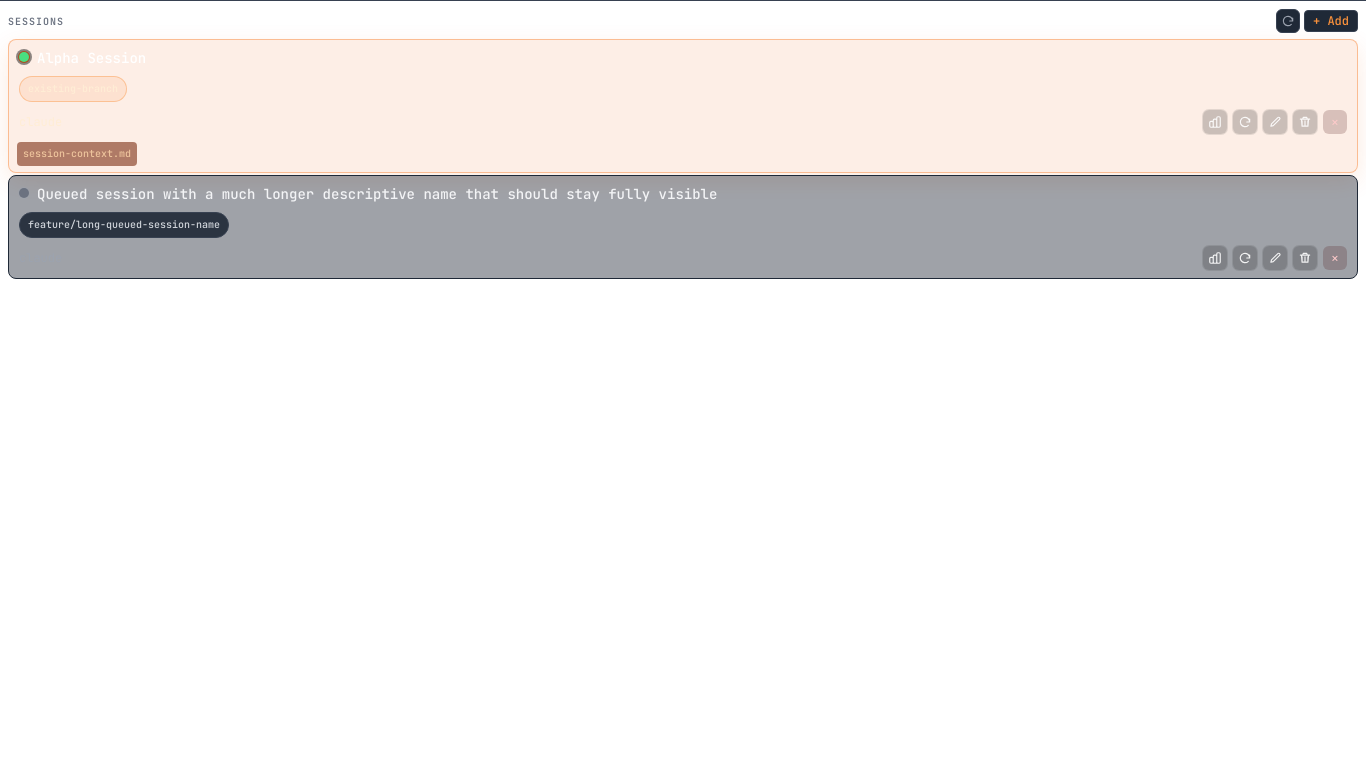
Test: SessionList › creates a new git session on a new branch
Click the button "+ Add". click: click(1331, 21)
box: [1304, 10, 1358, 32]
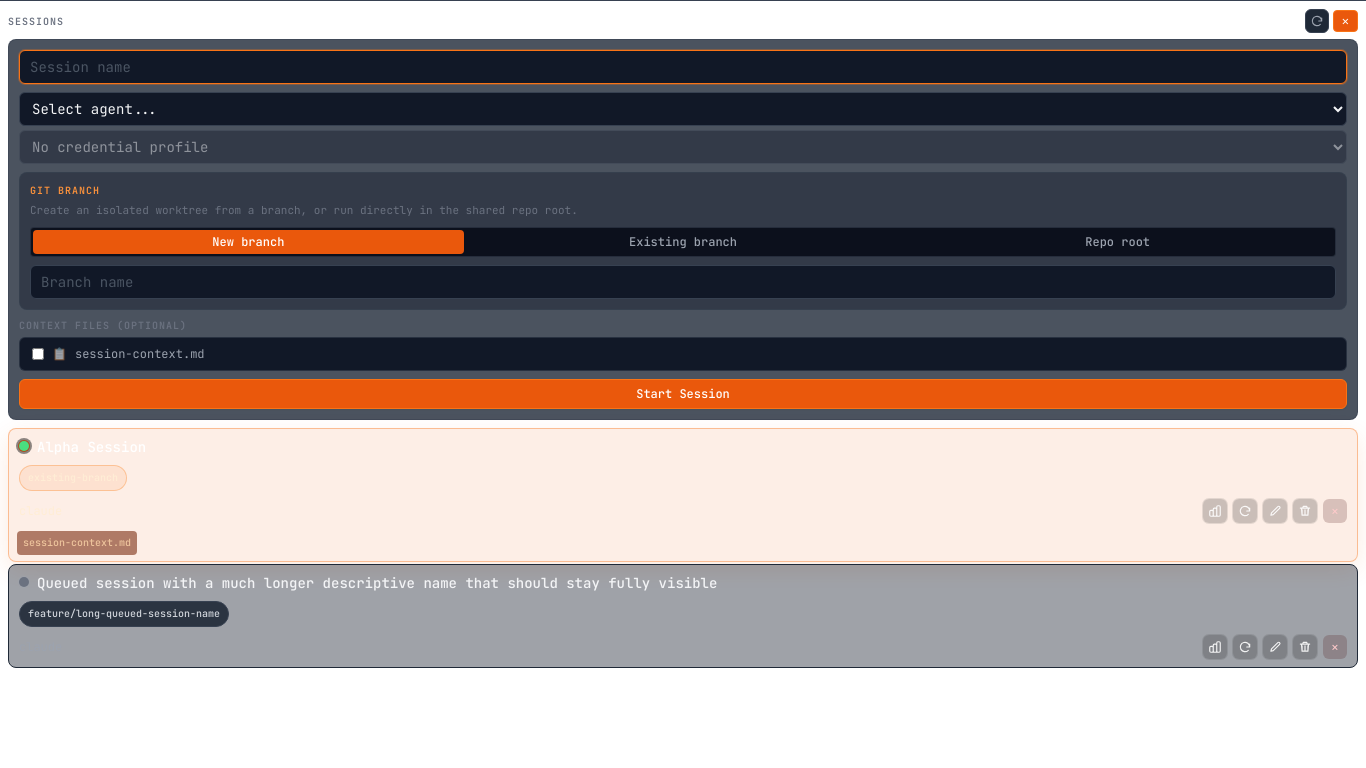
Type "Feature Session" into the field with placeholder "Session name". click: (683, 67)
box: [19, 50, 1347, 84]
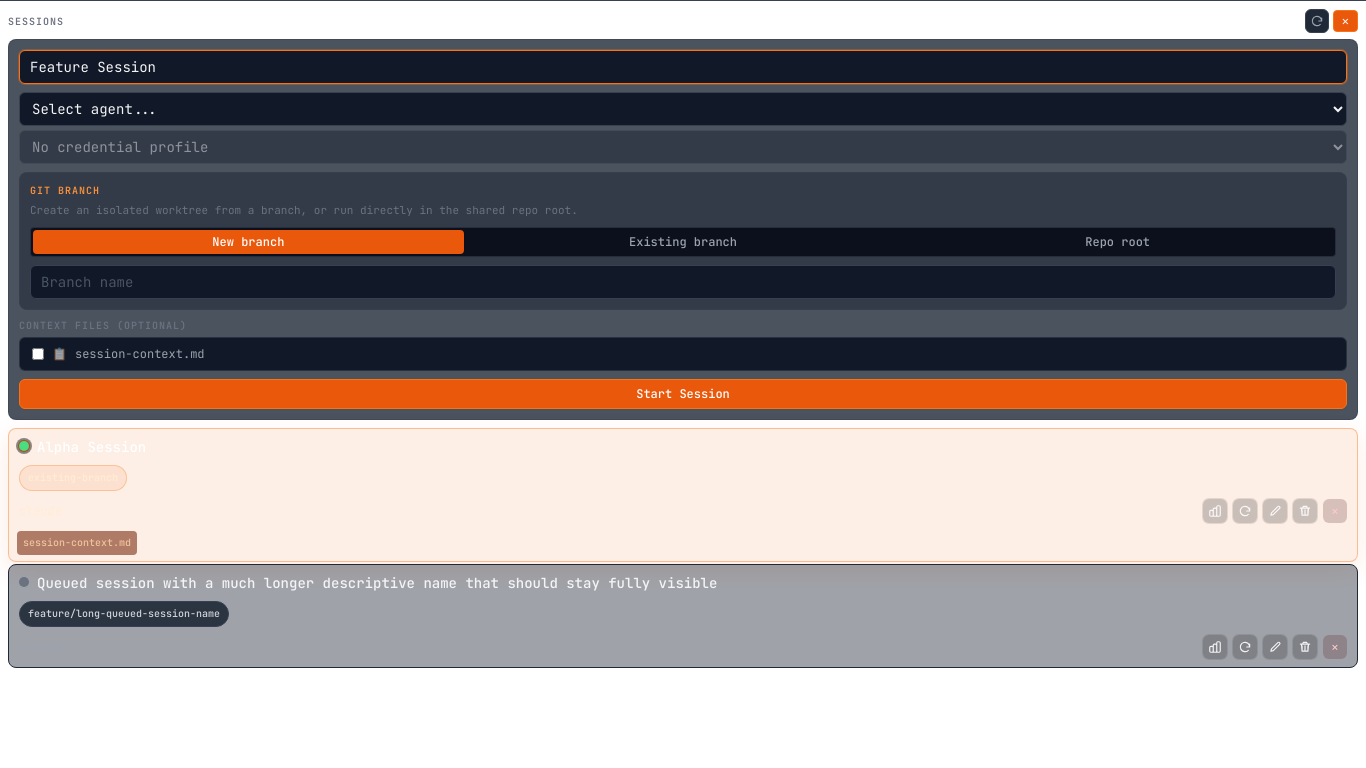
Select "Claude" in the 1st dropdown. click: (683, 109)
box: [19, 92, 1347, 126]
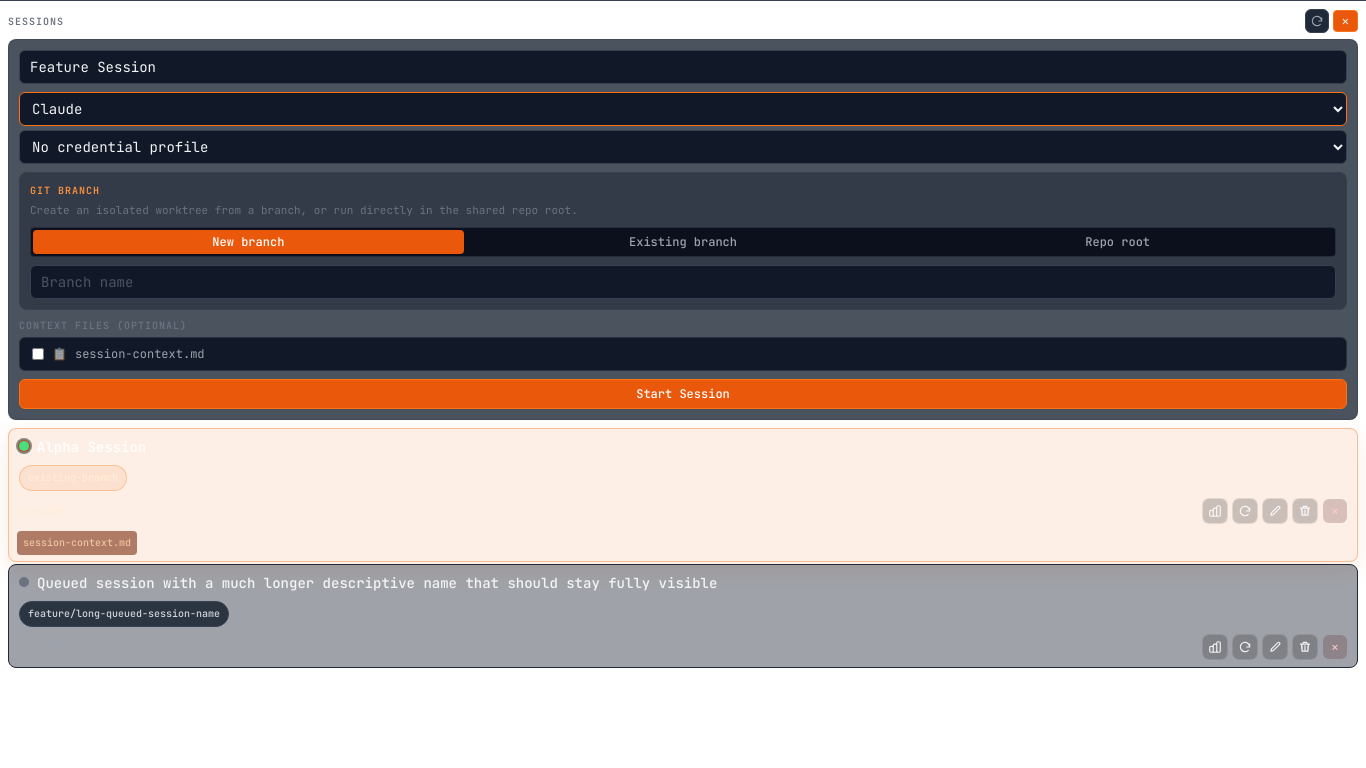
Type "feature/new-session" into the field with placeholder "Branch name". click: (683, 282)
box: [30, 264, 1336, 298]
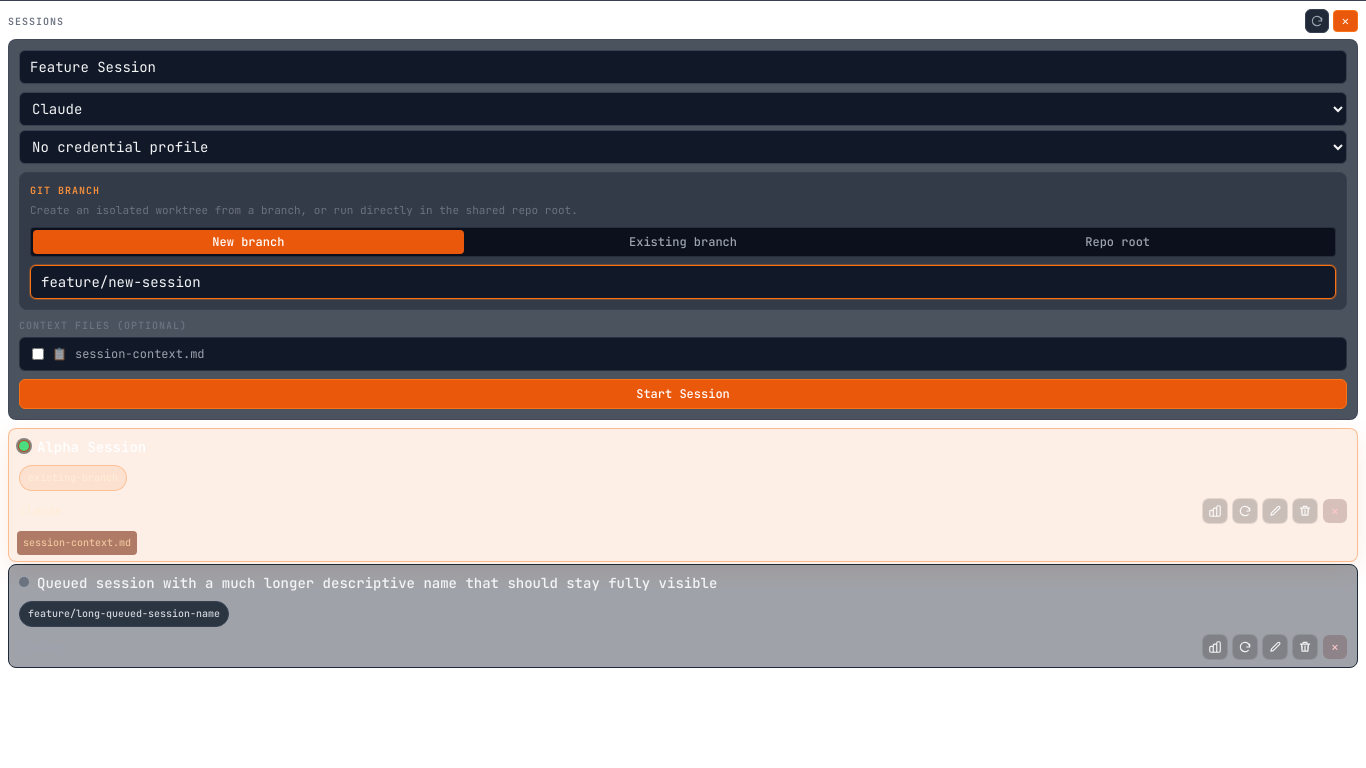
Click the button "Start Session". click: click(683, 394)
box: [19, 378, 1347, 408]
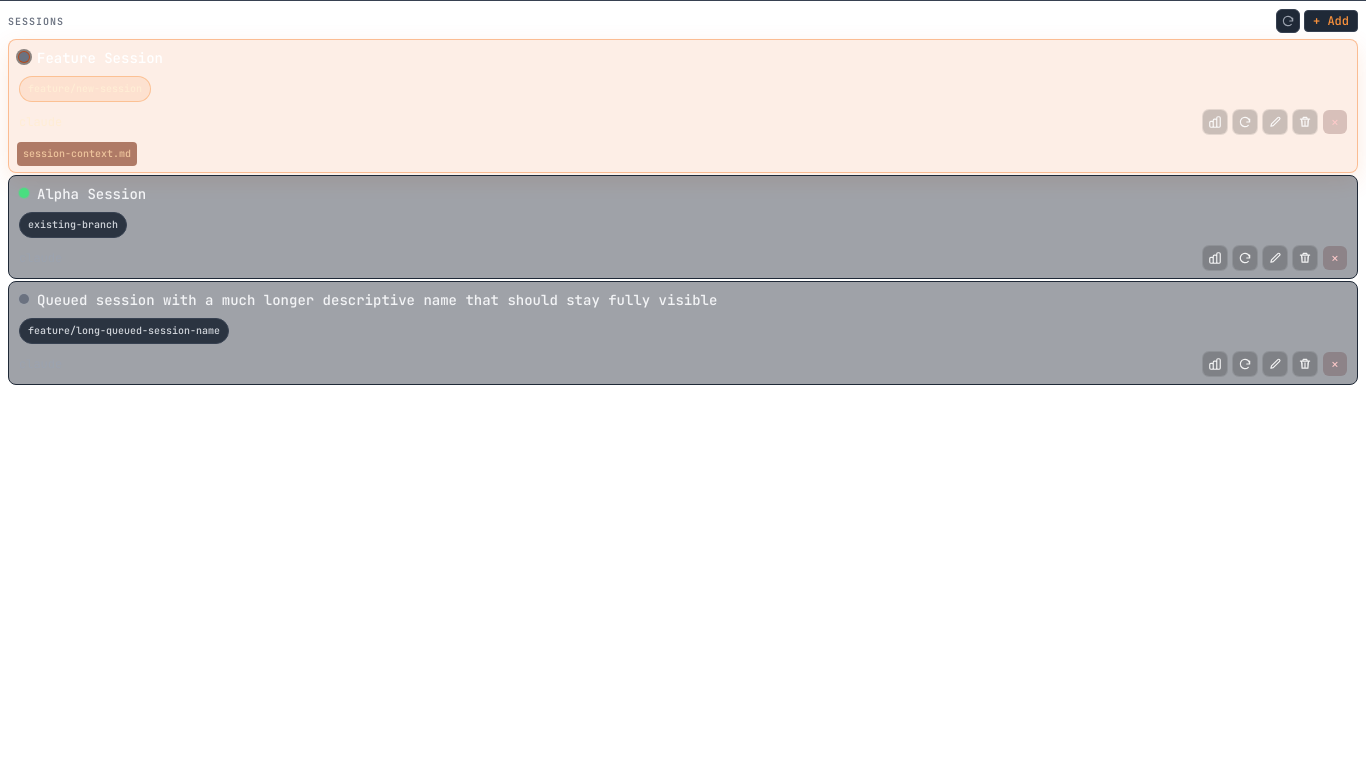
expect the text "feature/new-session" is shown: met, box [28, 79, 142, 99]
